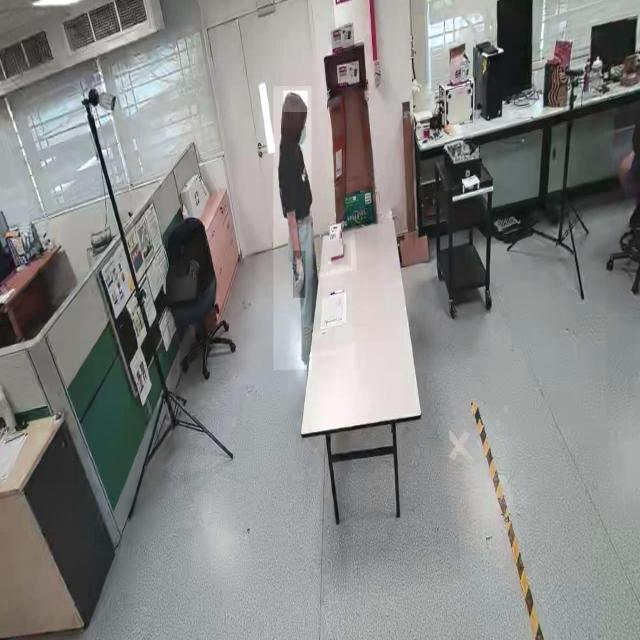hand_glove: (292, 250, 306, 298)
head_nohelmet: (283, 91, 307, 113)
person: (273, 86, 311, 371)
